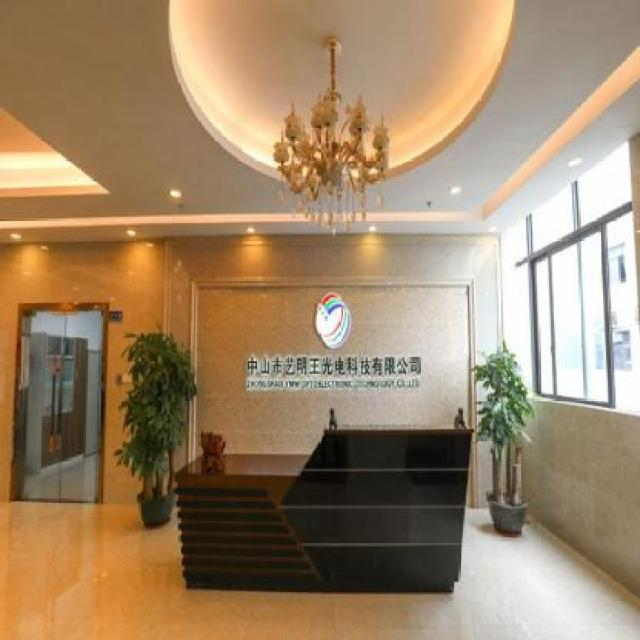frontdesk: (169, 419, 478, 603)
